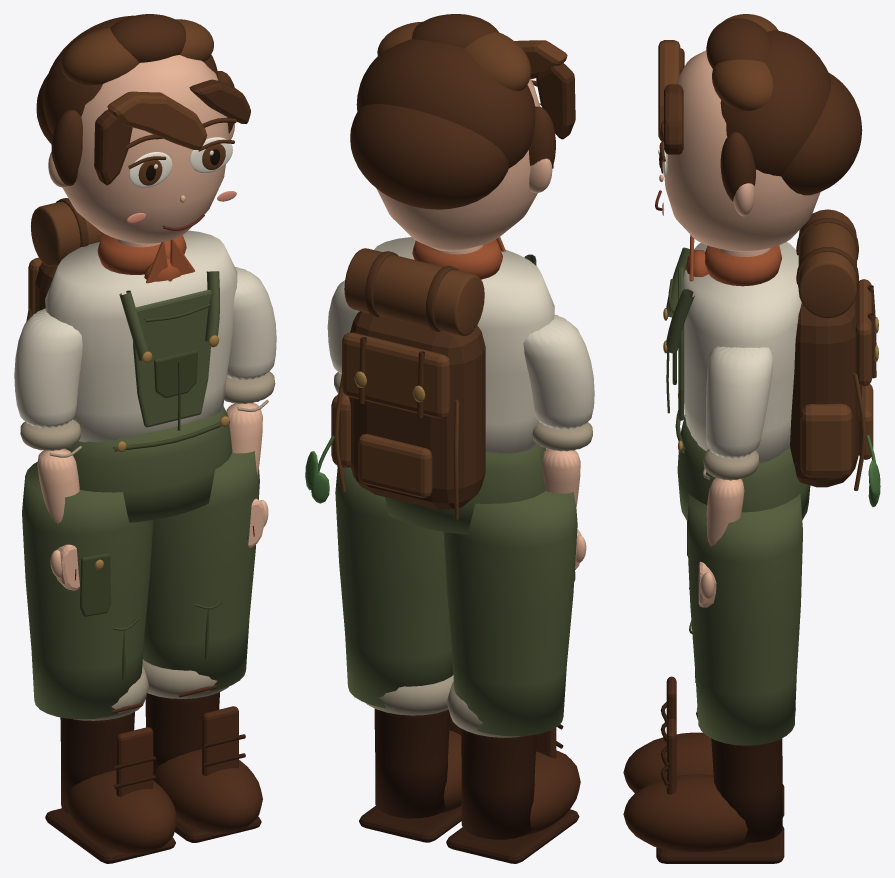
The model's file is player_character_v2.glb.
3 views of the same model, side by side, from view 1: azimuth 30°, elevation 25°; view 2: azimuth 150°, elevation 25°; view 3: azimuth 270°, elevation 25° (orthographic).
Visible parts, largest first — view 1: Trouser_-1, Trouser_1, ShirtTorso, Head, OverallHips, Sleeve_-1, OverallBib, BootToe_-1, BootToe_1, Sleeve_1, BootShaft_-1, BootShaft_1 (+30 smaller); view 2: Trouser_-1, Trouser_1, Backpack, HairBack, HairMass, ShirtTorso, Bedroll, BootShaft_1, BootShaft_-1, Head, BackpackFlap, Sleeve_-1 (+23 smaller); view 3: Trouser_1, ShirtTorso, Head, HairMass, Backpack, BootToe_1, Sleeve_1, BootShaft_1, HairBack, Bedroll, OverallHips, BackpackSidePouch (+18 smaller).
Boxes of the visible parts, x1=… form: Trouser_-1: x1=22, y1=462, x2=153, y2=719; Trouser_1: x1=143, y1=451, x2=259, y2=691; ShirtTorso: x1=45, y1=230, x2=237, y2=442; Head: x1=62, y1=55, x2=229, y2=244; OverallHips: x1=66, y1=406, x2=232, y2=522; Sleeve_-1: x1=14, y1=308, x2=82, y2=427; OverallBib: x1=133, y1=289, x2=211, y2=427; BootToe_-1: x1=65, y1=770, x2=177, y2=854; BootToe_1: x1=153, y1=749, x2=262, y2=833; Sleeve_1: x1=227, y1=267, x2=276, y2=379; BootShaft_-1: x1=60, y1=712, x2=134, y2=813; BootShaft_1: x1=145, y1=692, x2=219, y2=770; Trouser_-1: x1=443, y1=490, x2=577, y2=736; Trouser_1: x1=335, y1=467, x2=453, y2=708; Backpack: x1=349, y1=311, x2=485, y2=509; HairBack: x1=350, y1=104, x2=508, y2=209; HairMass: x1=356, y1=39, x2=535, y2=168; ShirtTorso: x1=374, y1=237, x2=554, y2=454; Bedroll: x1=344, y1=248, x2=484, y2=335; BootShaft_1: x1=374, y1=709, x2=449, y2=818; BootShaft_-1: x1=461, y1=728, x2=536, y2=839; Head: x1=376, y1=79, x2=540, y2=251; BackpackFlap: x1=342, y1=332, x2=450, y2=418; Sleeve_-1: x1=523, y1=315, x2=594, y2=429; Trouser_1: x1=687, y1=493, x2=802, y2=745; ShirtTorso: x1=682, y1=242, x2=801, y2=463; Head: x1=664, y1=50, x2=820, y2=251; HairMass: x1=720, y1=30, x2=831, y2=176; Backpack: x1=790, y1=290, x2=859, y2=487; BootToe_1: x1=623, y1=774, x2=748, y2=851; Sleeve_1: x1=706, y1=346, x2=773, y2=458; BootShaft_1: x1=711, y1=738, x2=782, y2=842; HairBack: x1=781, y1=73, x2=862, y2=195; Bedroll: x1=798, y1=209, x2=856, y2=318; OverallHips: x1=677, y1=414, x2=810, y2=520; BackpackSidePouch: x1=800, y1=403, x2=852, y2=477.
Size of the model in its own units: 0.6659 by 2 by 0.5814.
